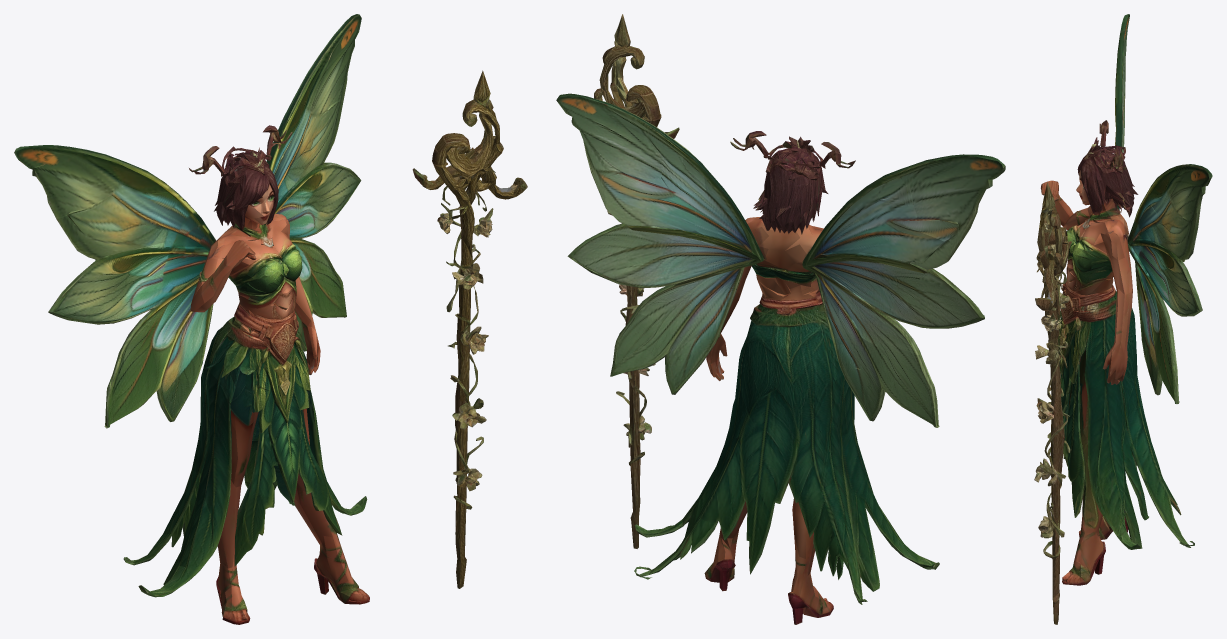
The model's file is diwata.glb.
3 renders of one model, left to right at view 1: azimuth 30°, elevation 25°; view 2: azimuth 150°, elevation 25°; view 3: azimuth 270°, elevation 25°, orthographic. The views are drawn at different scales.
Parts seen in each view (by area): view 1: mesh_node; view 2: mesh_node; view 3: mesh_node.
Part boxes in pixels (x1,y1,x2,y2): mesh_node: (14, 14, 527, 624); mesh_node: (556, 14, 1005, 624); mesh_node: (1034, 14, 1212, 624).
Size of the model in its own units: 1.78 by 1.9 by 0.6833.
Materials: 1 (1 with a texture image).
